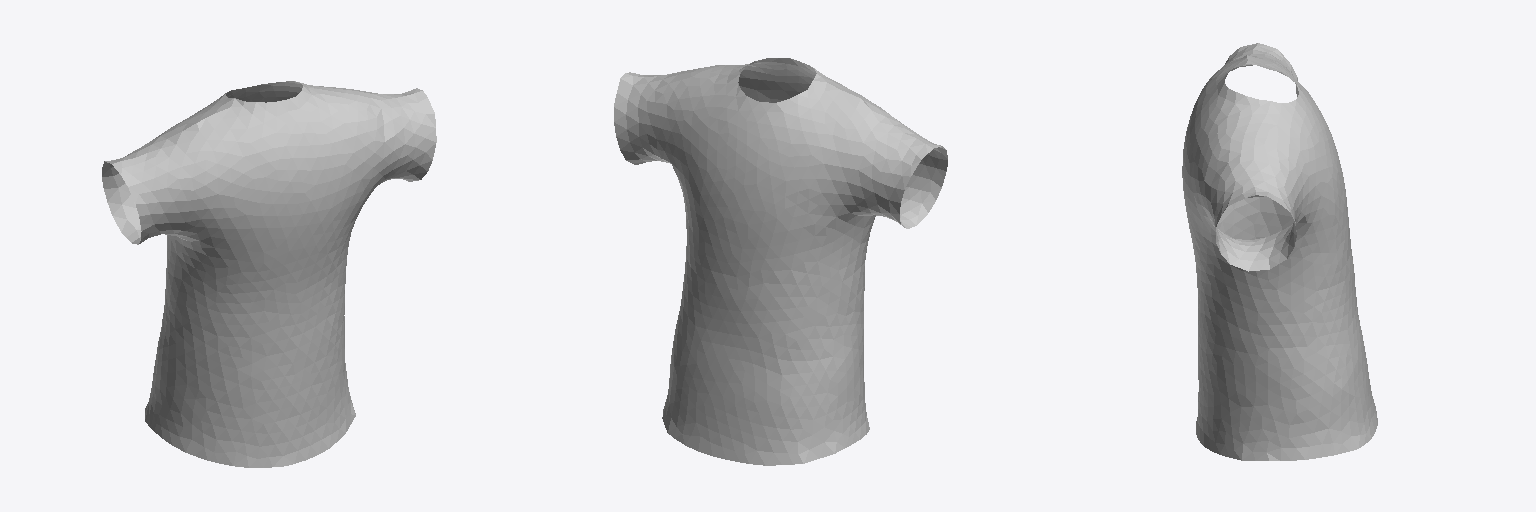
Rendered from tshirt1000-tri.obj.
The picture shows the model from 3 angles: view 1: azimuth 30°, elevation 25°; view 2: azimuth 150°, elevation 25°; view 3: azimuth 270°, elevation 25°; orthographic projection.
Parts seen in each view (by area): view 1: tshirt1000-tri; view 2: tshirt1000-tri; view 3: tshirt1000-tri.
Part boxes in pixels (bbox=[...]): tshirt1000-tri: bbox=[102, 81, 436, 467]; tshirt1000-tri: bbox=[614, 58, 947, 465]; tshirt1000-tri: bbox=[1182, 43, 1377, 460].
Size of the model in its own units: 10.47 by 11.37 by 5.71.